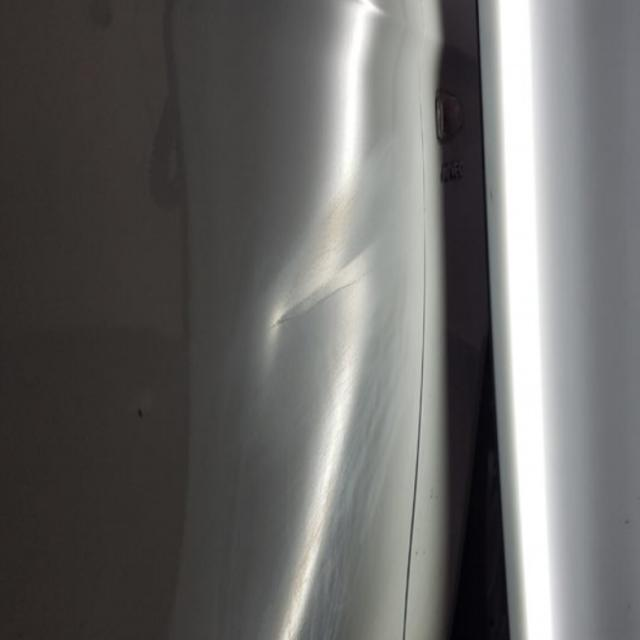dents: (192, 166, 470, 572)
